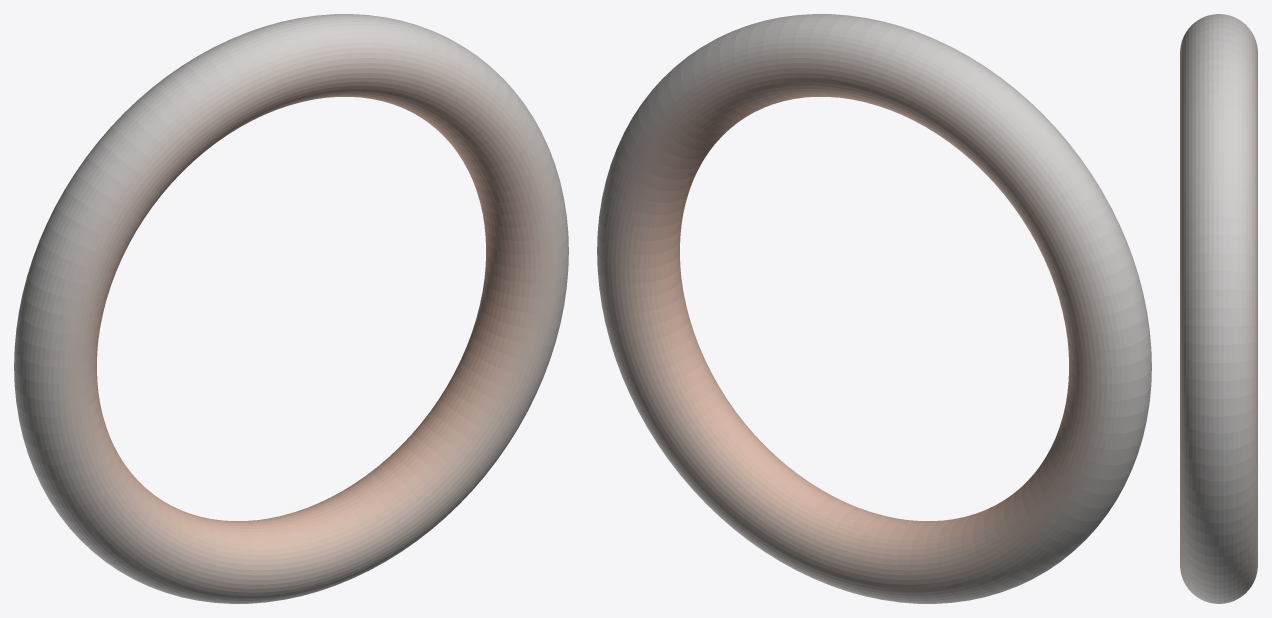
3 views of the same model, side by side, from view 1: azimuth 30°, elevation 25°; view 2: azimuth 150°, elevation 25°; view 3: azimuth 270°, elevation 25° (orthographic). The views are drawn at different scales.
Parts seen in each view (by area): view 1: world; view 2: world; view 3: world.
Part boxes in pixels (box(x1,y1,x2,y2)): world: box(14, 14, 568, 603); world: box(597, 14, 1151, 603); world: box(1180, 14, 1257, 603).
Bounding box in the file's own units: 19.2 × 19.2 × 2.53.
